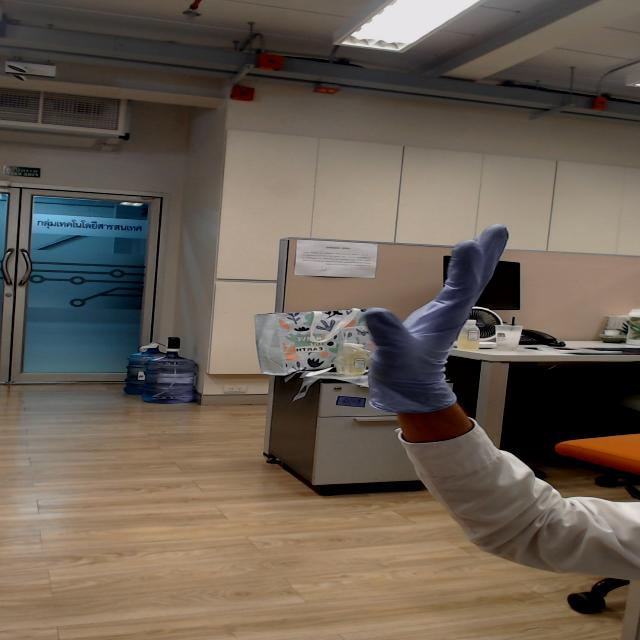glove: (350, 219, 523, 381)
